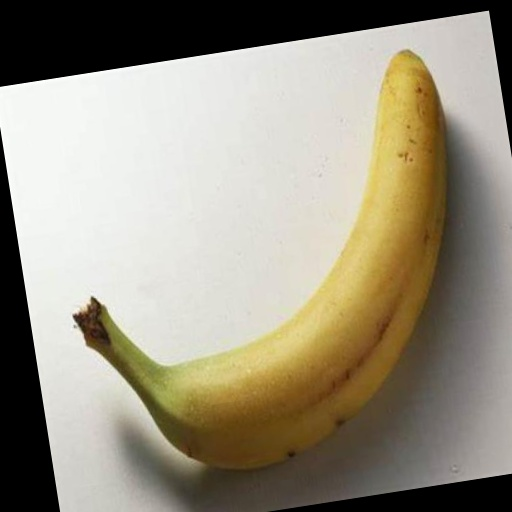fruit: (74, 51, 446, 468)
